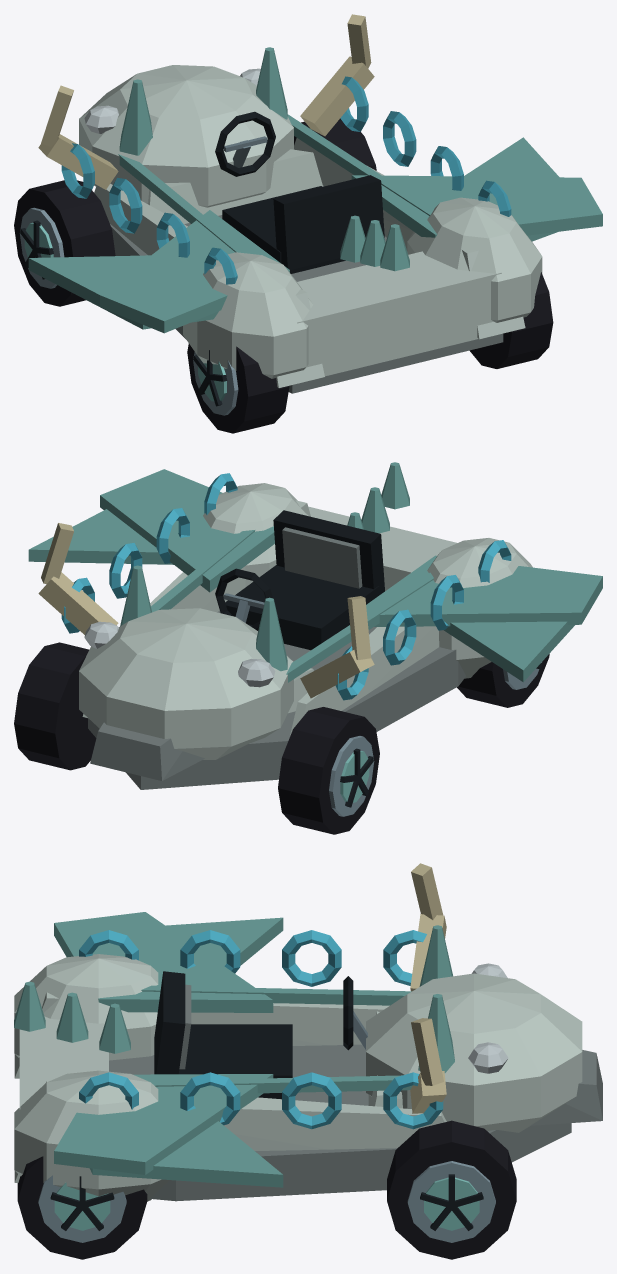
File: kart.glb
3 views of the same model, one above another, from view 1: azimuth 30°, elevation 25°; view 2: azimuth 150°, elevation 25°; view 3: azimuth 270°, elevation 25° (orthographic). The views are drawn at different scales.
Visible parts, largest first — view 1: identity-dragon-dragon-sculpted-prow-and-haunches, identity-dragon-motif-wings, identity-dragon-driver-cockpit, identity-dragon-motif-water, wheel-front-left, identity-dragon-motif-horns, wheel-rear-left, wheel-rear-right, wheel-front-right; view 2: identity-dragon-dragon-sculpted-prow-and-haunches, identity-dragon-motif-wings, identity-dragon-driver-cockpit, wheel-front-left, wheel-front-right, identity-dragon-motif-water, identity-dragon-motif-horns, wheel-rear-left; view 3: identity-dragon-dragon-sculpted-prow-and-haunches, identity-dragon-motif-wings, wheel-front-right, identity-dragon-motif-water, identity-dragon-driver-cockpit, wheel-rear-right, identity-dragon-motif-horns.
Boxes of the visible parts, <box> form: identity-dragon-dragon-sculpted-prow-and-haunches: <box>28,47,559,393</box>; identity-dragon-motif-wings: <box>100,175,602,333</box>; identity-dragon-driver-cockpit: <box>215,111,384,273</box>; identity-dragon-motif-water: <box>61,76,511,284</box>; wheel-front-left: <box>14,180,115,306</box>; identity-dragon-motif-horns: <box>38,14,374,189</box>; wheel-rear-left: <box>187,343,289,433</box>; wheel-rear-right: <box>469,272,553,368</box>; wheel-front-right: <box>294,118,376,170</box>; identity-dragon-dragon-sculpted-prow-and-haunches: <box>28,462,574,789</box>; identity-dragon-motif-wings: <box>100,469,602,626</box>; identity-dragon-driver-cockpit: <box>215,510,384,650</box>; wheel-front-left: <box>278,707,379,834</box>; wheel-front-right: <box>14,642,96,770</box>; identity-dragon-motif-water: <box>61,473,511,700</box>; identity-dragon-motif-horns: <box>38,523,374,698</box>; wheel-rear-left: <box>457,654,549,707</box>; identity-dragon-dragon-sculpted-prow-and-haunches: <box>14,917,602,1201</box>; identity-dragon-motif-wings: <box>54,912,273,1174</box>; wheel-front-right: <box>387,1120,516,1259</box>; identity-dragon-motif-water: <box>79,930,443,1129</box>; identity-dragon-driver-cockpit: <box>154,971,367,1099</box>; wheel-rear-right: <box>17,1156,147,1259</box>; identity-dragon-motif-horns: <box>410,863,446,1113</box>.
Size of the model in its own units: 3 by 1.29 by 2.9.
